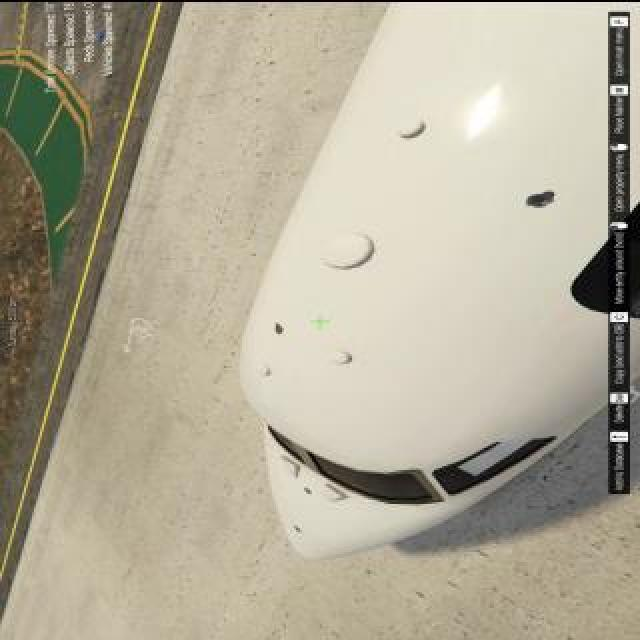crack: (523, 186, 559, 206), (272, 320, 286, 332), (293, 523, 305, 533), (304, 485, 316, 493)
